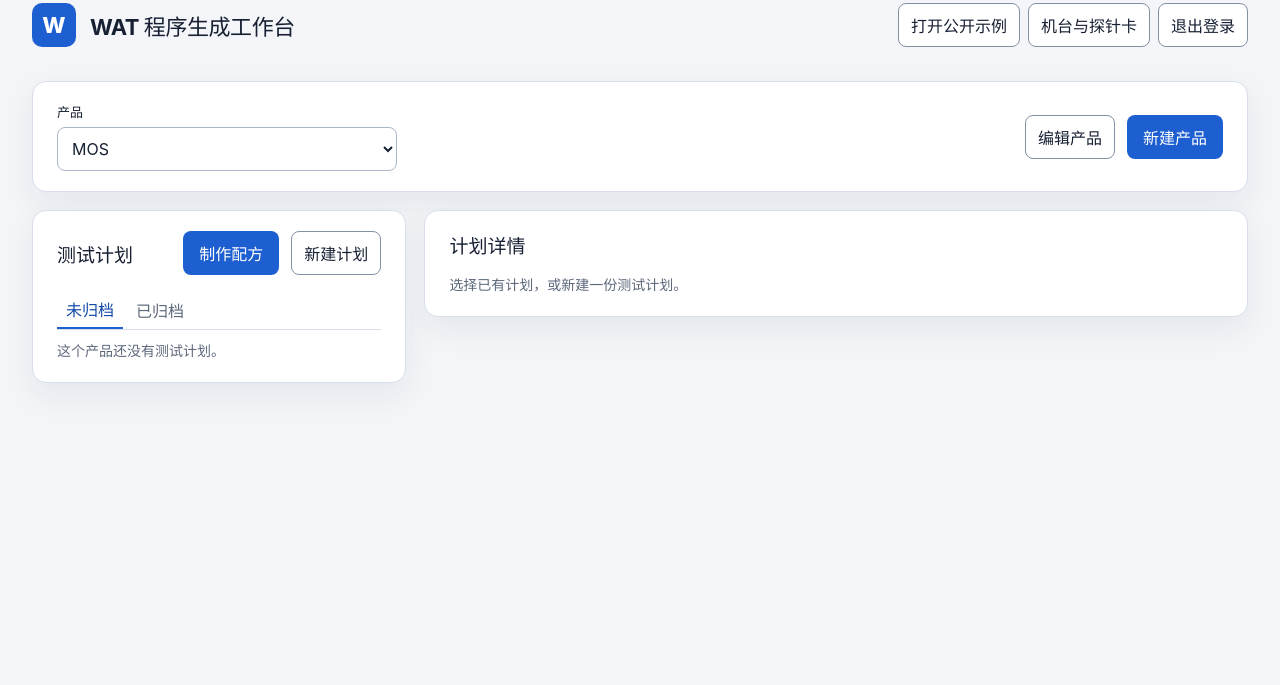
Scenario: WAT pilot › starts recipe authoring from physical test conditions
Click the button "制作配方". click: (231,253)
box: [183, 231, 279, 275]
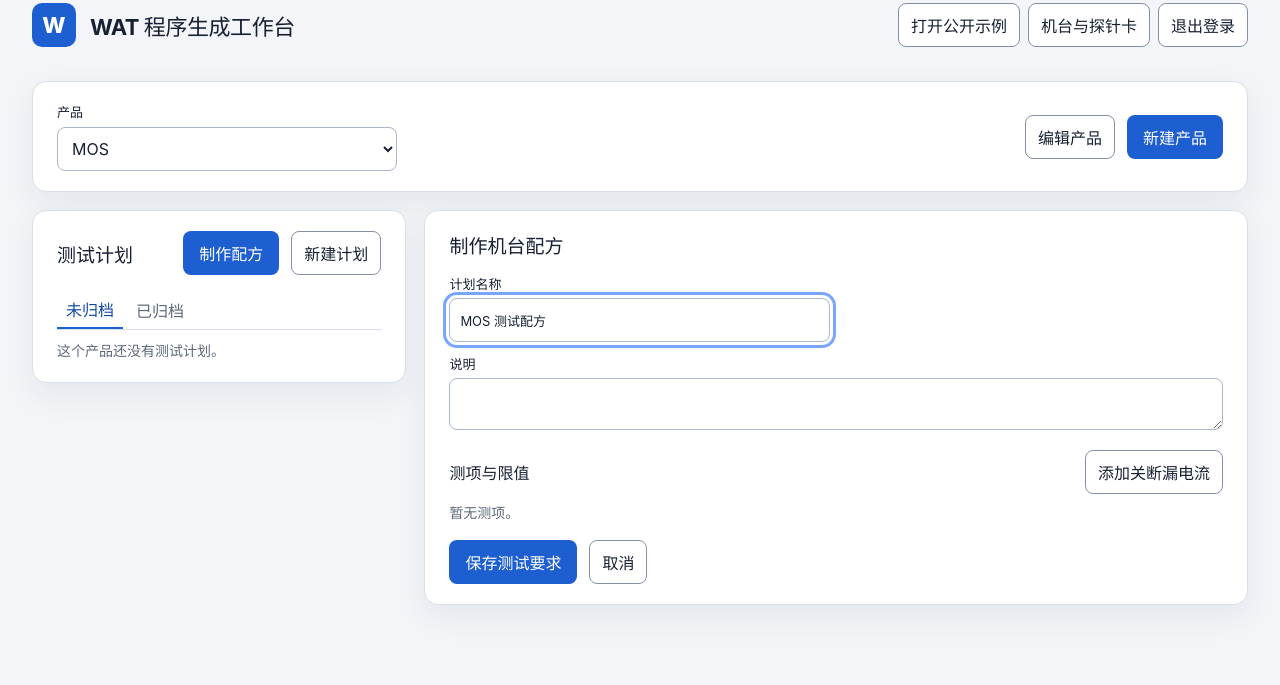
Click the button "添加关断漏电流". click: (1154,472)
box: [1085, 450, 1223, 494]
(page scrolled)
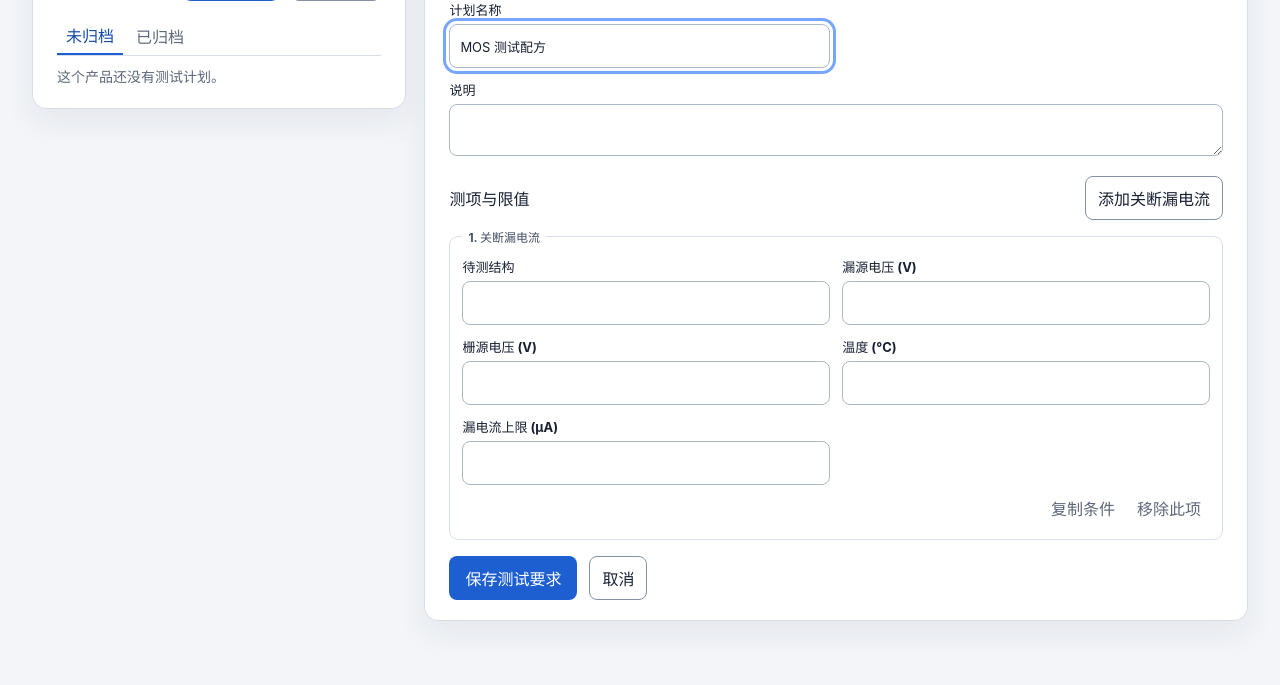
Expected: the field labelled "漏源电压 (V)" is shown, [842, 281, 1210, 325]
Expected: the field labelled "漏电流上限 (µA)" is shown, [462, 441, 830, 485]
